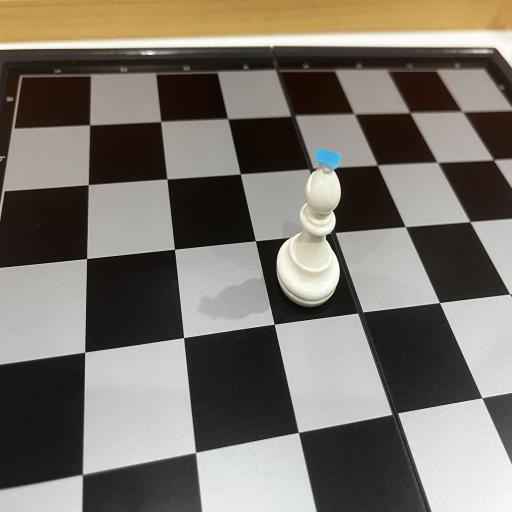White bishop: (276, 148, 340, 306)
